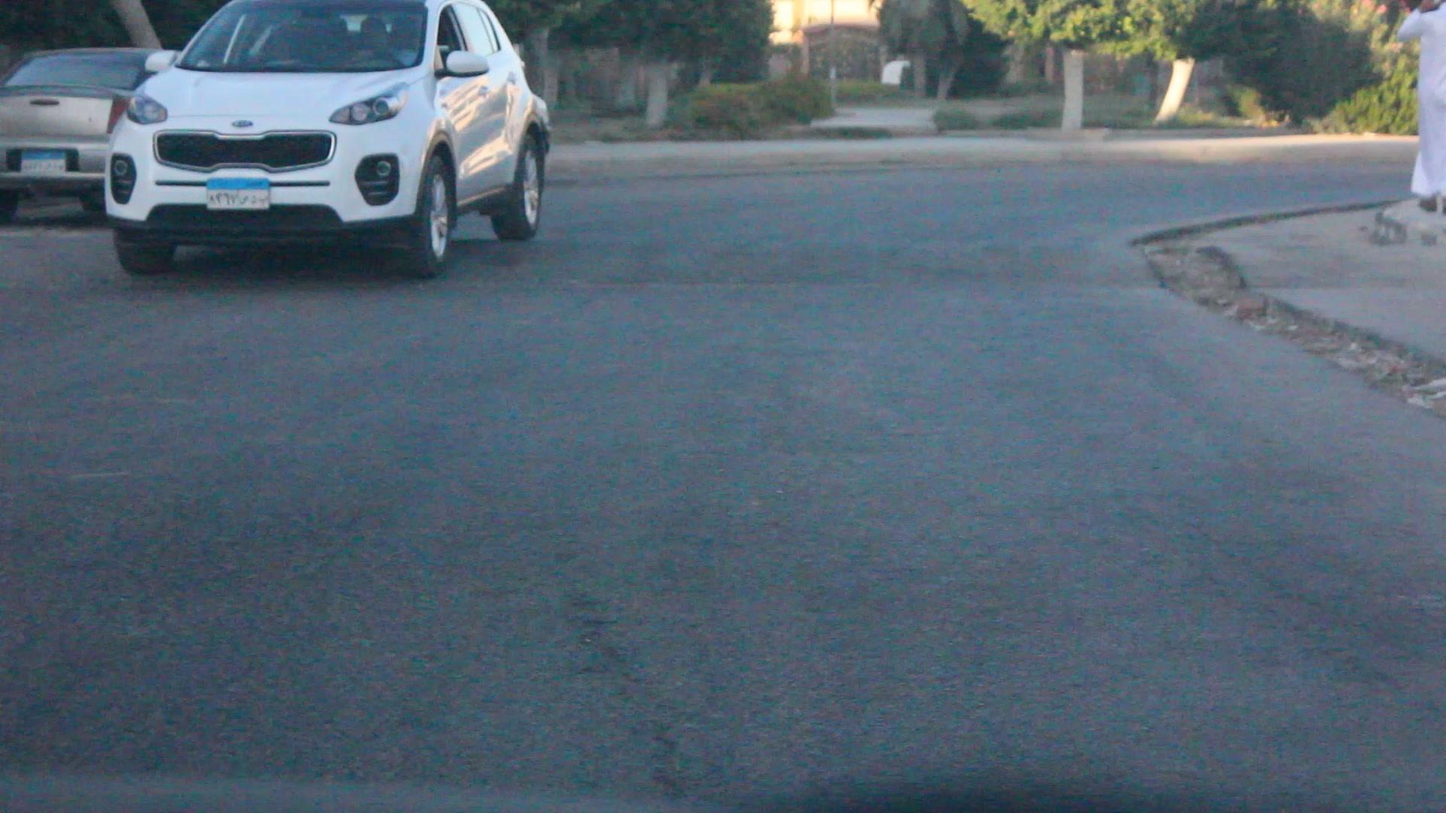Bump: (6, 226, 1181, 297)
